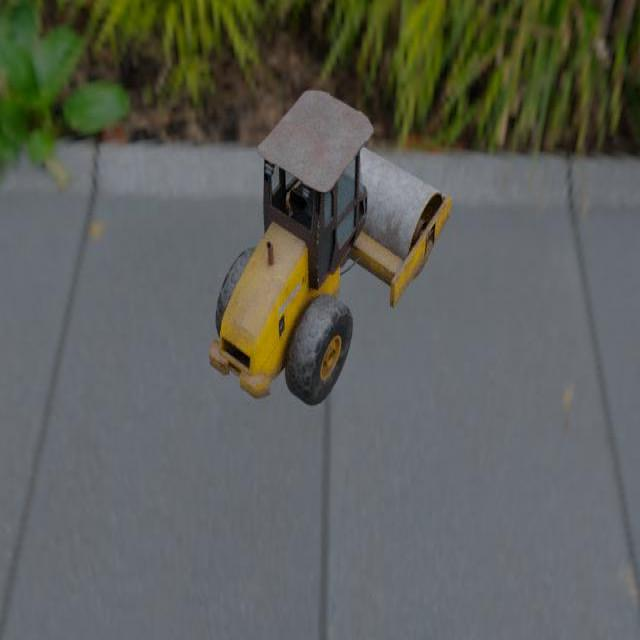Roller: (208, 90, 452, 406)
